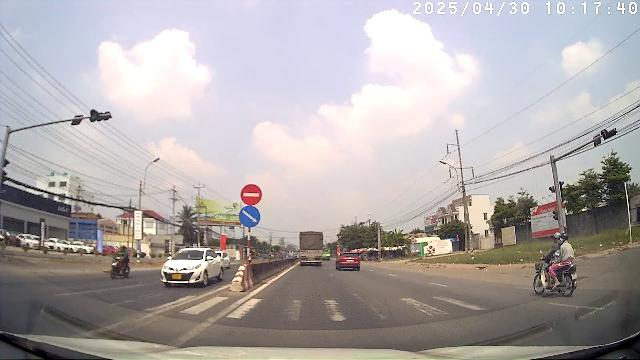102-cam-di-nguoc-chieu: (240, 183, 262, 205)
302a-huong-phai-di-vong-chuong-ngai-vat-1: (238, 206, 262, 226)
